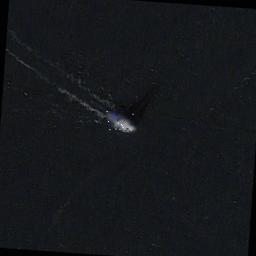boat: (105, 110, 137, 132)
